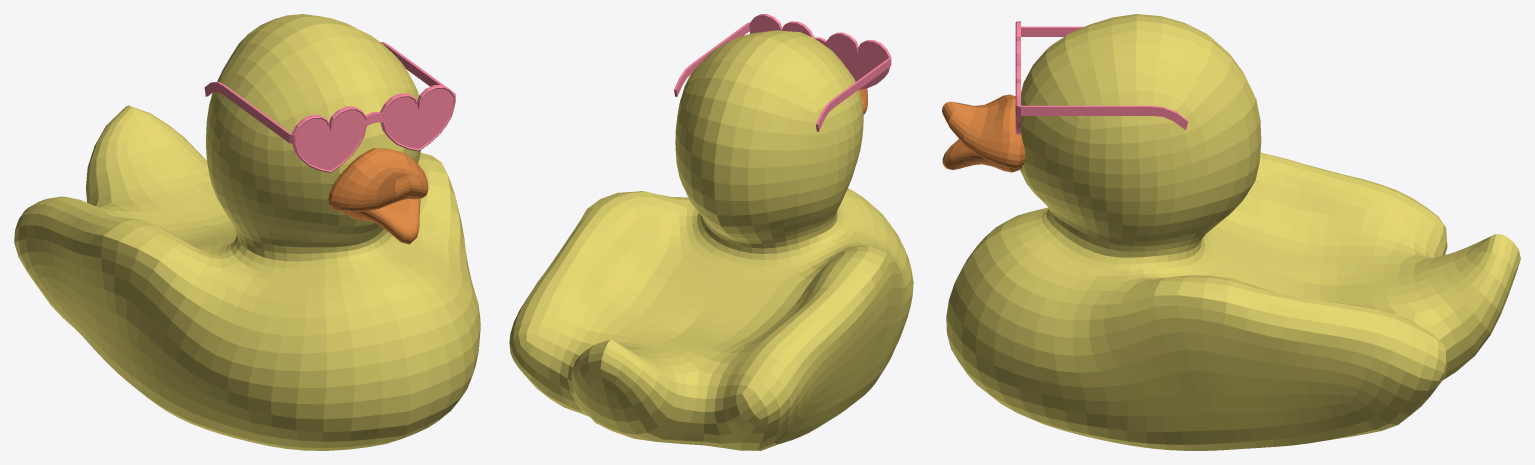
The model's file is Canard.fbx.
3 renders of one model, left to right at view 1: azimuth 30°, elevation 25°; view 2: azimuth 150°, elevation 25°; view 3: azimuth 270°, elevation 25°, orthographic. The views are drawn at different scales.
Parts seen in each view (by area): view 1: Canard; view 2: Canard; view 3: Canard.
Part boxes in pixels (x1,y1,x2,y2): Canard: (14, 14, 480, 450); Canard: (509, 14, 913, 450); Canard: (942, 14, 1520, 450).
Bounding box in the file's own units: 169 × 185 × 255.
